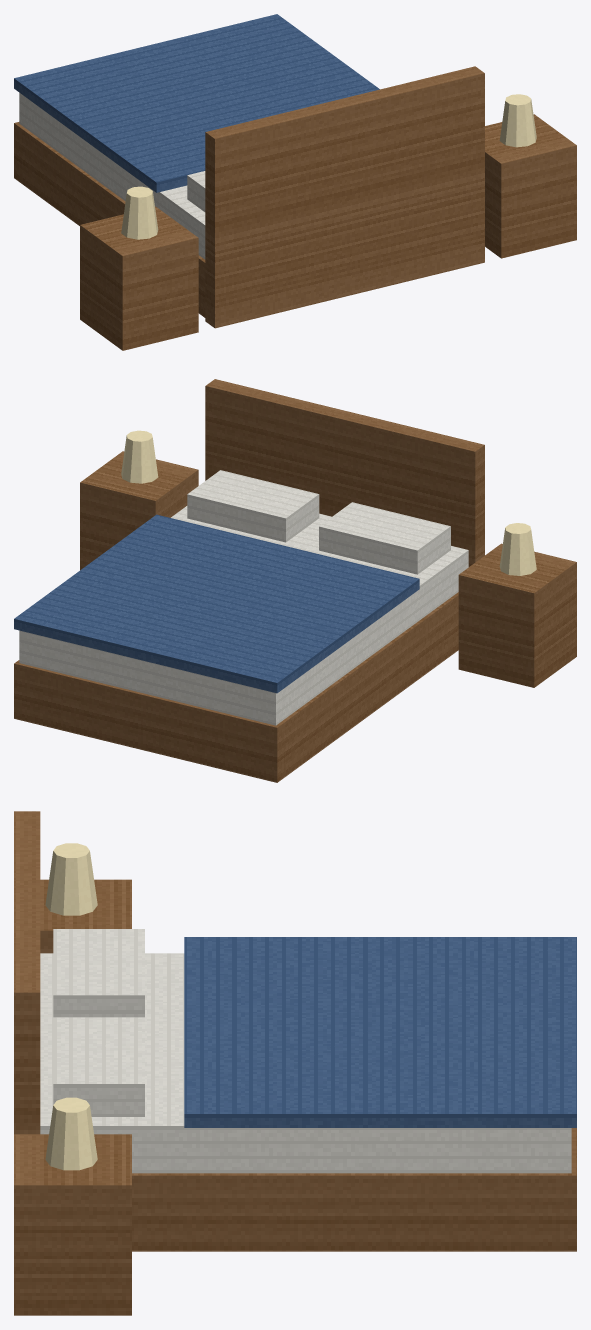
The model's file is bed_double.glb.
3 views of the same model, one above another, from view 1: azimuth 30°, elevation 25°; view 2: azimuth 150°, elevation 25°; view 3: azimuth 270°, elevation 25° (orthographic). The views are drawn at different scales.
Visible parts, largest first — view 1: bed_double; view 2: bed_double; view 3: bed_double.
Part boxes in pixels (x1=…): bed_double: x1=14, y1=14, x2=576, y2=350; bed_double: x1=14, y1=379, x2=576, y2=782; bed_double: x1=14, y1=811, x2=576, y2=1315.
Bounding box in the file's own units: 2.76 × 1.1 × 2.15.
4 materials, 4 textured.
